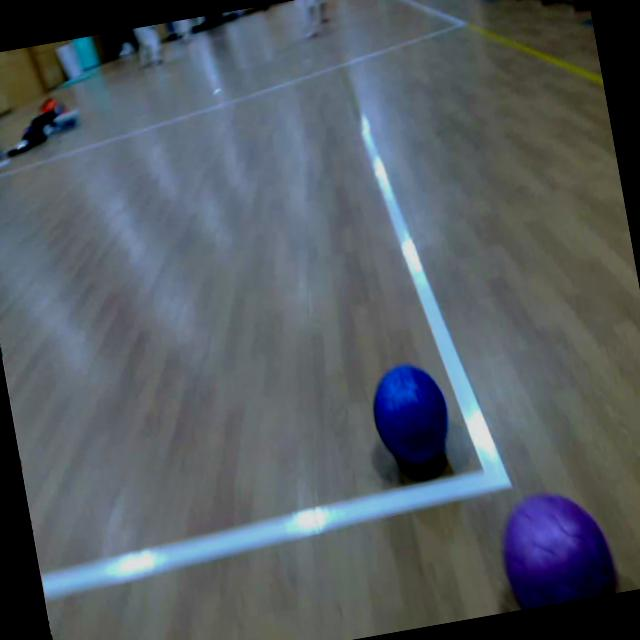blue_ball: (366, 359, 456, 472)
purple_ball: (490, 478, 623, 612)
